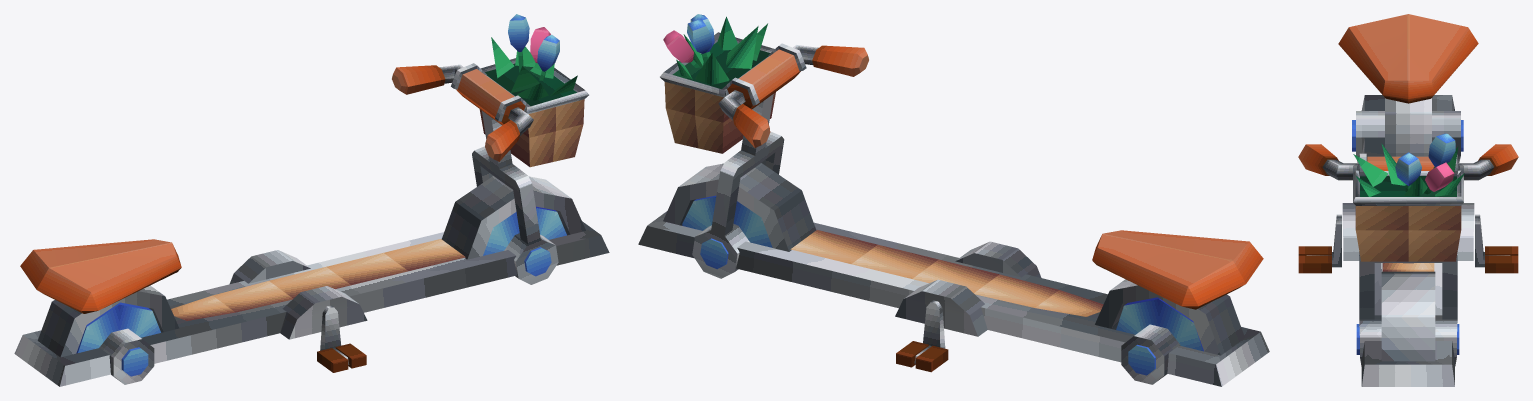
Rendered from amsterdamBoard01.glb.
3 views of the same model, side by side, from view 1: azimuth 30°, elevation 25°; view 2: azimuth 150°, elevation 25°; view 3: azimuth 270°, elevation 25° (orthographic). The views are drawn at different scales.
Visible parts, largest first — view 1: amsterdamBoard01; view 2: amsterdamBoard01; view 3: amsterdamBoard01.
Boxes of the visible parts, x1,y1,x2,y2 form: amsterdamBoard01: [14, 14, 609, 386]; amsterdamBoard01: [638, 14, 1269, 386]; amsterdamBoard01: [1298, 14, 1518, 386].
Size of the model in its own units: 12.19 by 5.16 by 4.11.
Materials: 1 (1 with a texture image).
